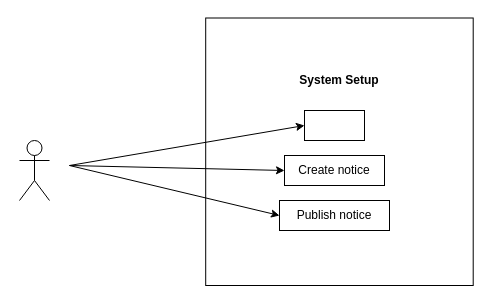
This 491x303 diagram has some shape labels left out. The centre of each missing label's shape, as x and y in pixels:
"Admin" goes at (34,170).
"Sign up" goes at (334,125).
